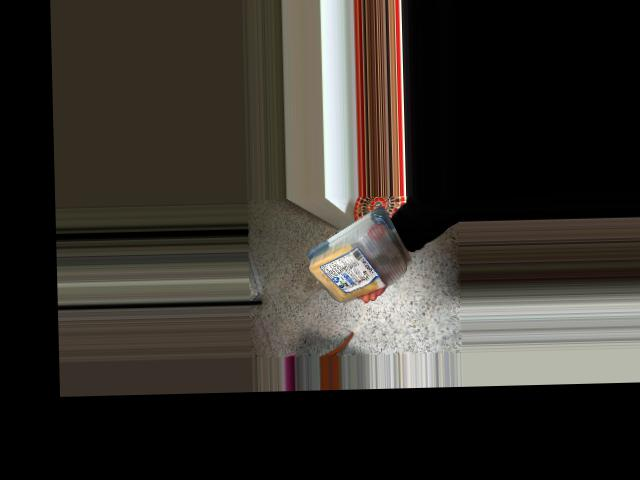cheese: (300, 199, 416, 311)
